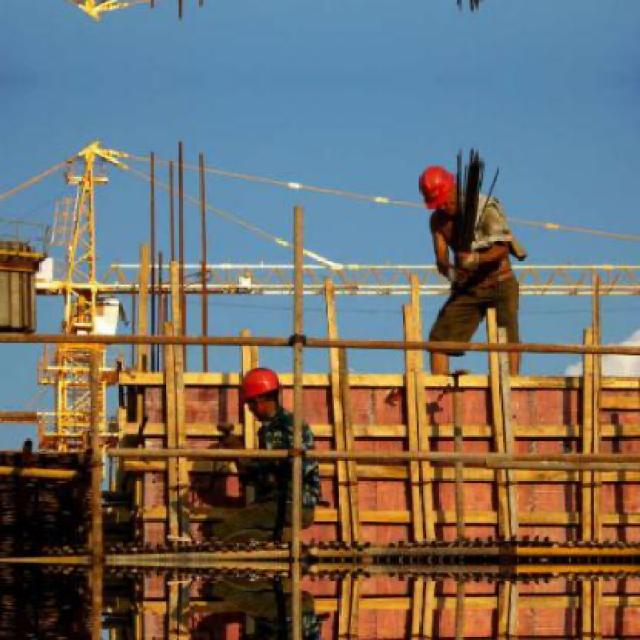con casco: (237, 341, 289, 437), (408, 158, 490, 218)
